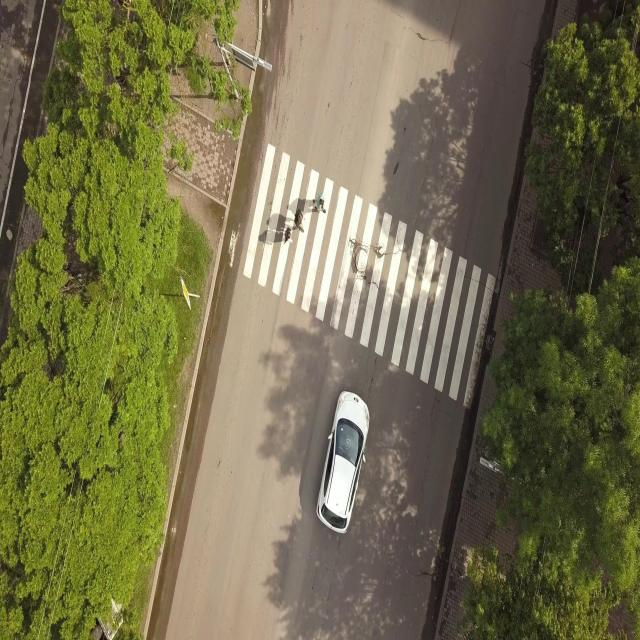Car: (308, 377, 388, 557)
